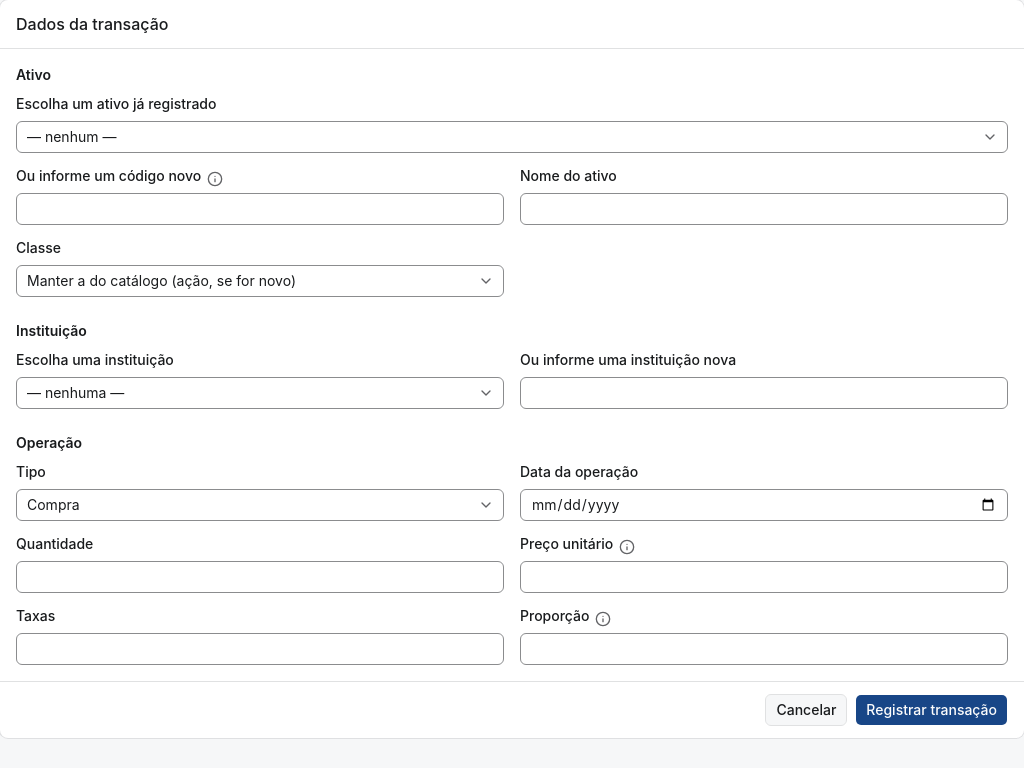
Scenario: TransactionForm › puts an unreadable value under its field, and moves focus there
In the date field labelled "Data da operação": (764, 505) 520,489 -> 1008,521, type "2026-04-01"
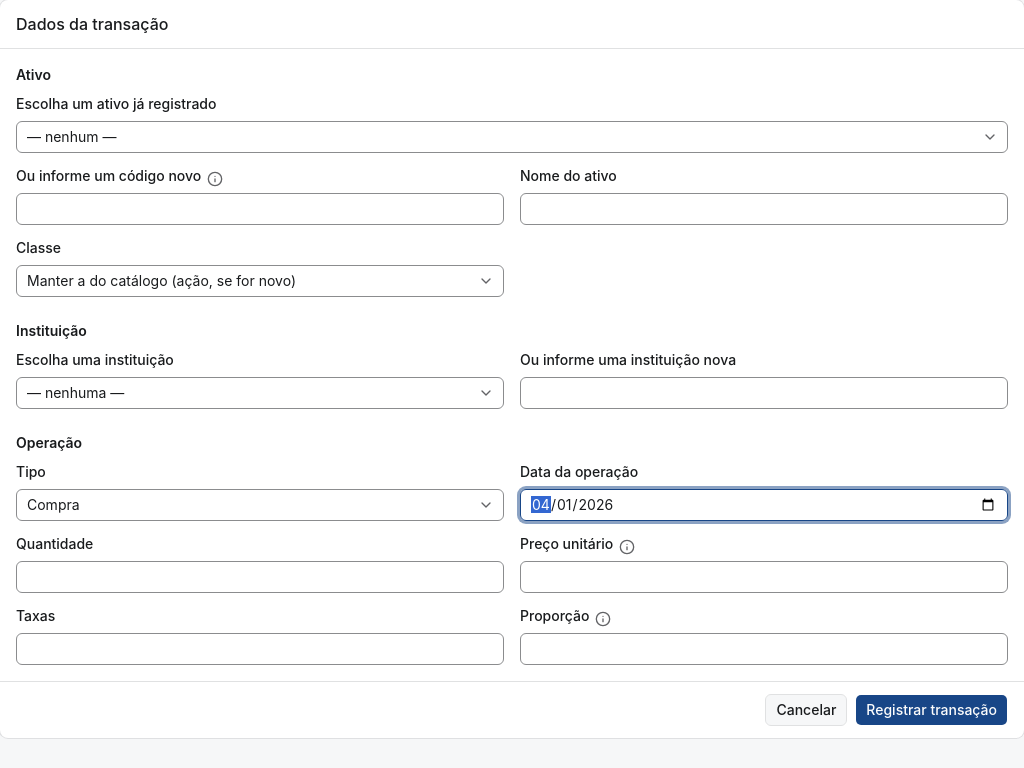
In the field labelled "Quantidade": (260, 577) 16,561 -> 504,593, type "1,2,3"
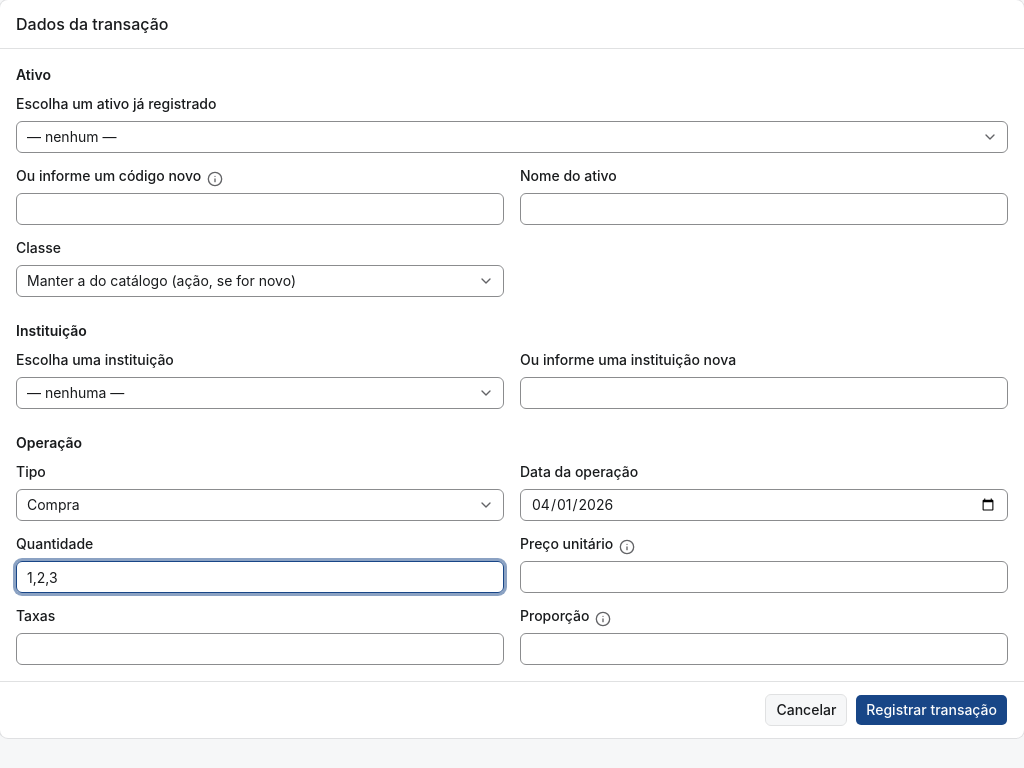
In the field labelled "Preço unitário": (764, 577) 520,561 -> 1008,593, type "1"
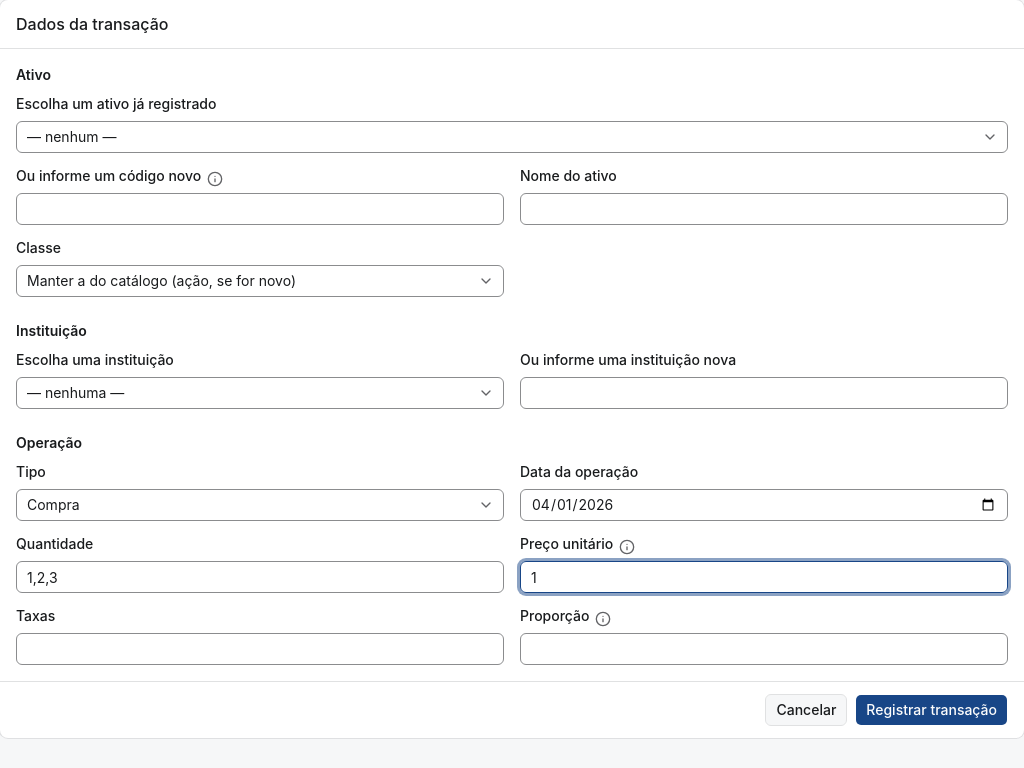
Click the button "Registrar transação": (932, 710) 855,694 -> 1008,726
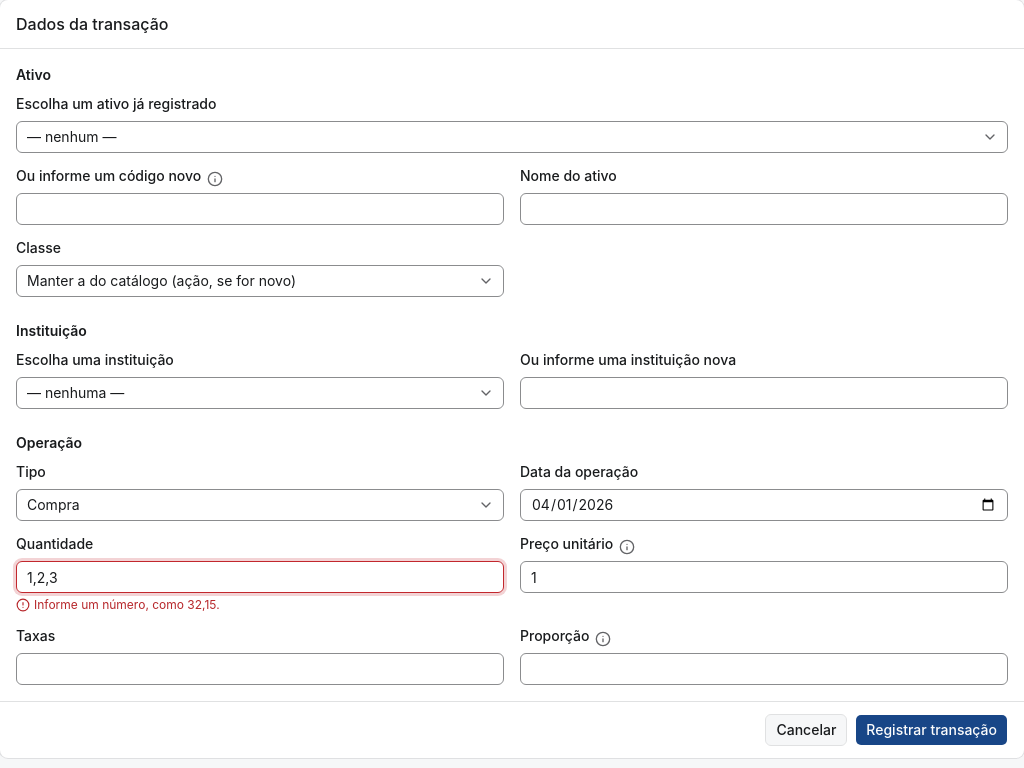
Result: the field labelled "Quantidade" holds "1,2,3" at 16,561 -> 504,593
Result: the text "Informe um número, como 32,15." is shown at 16,597 -> 220,612
